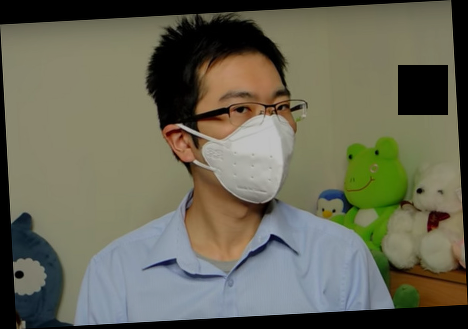with_mask: (198, 86, 299, 207)
